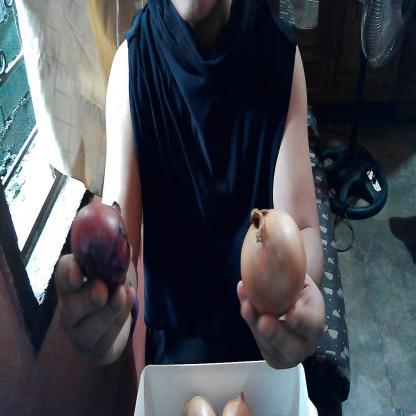onion: (236, 206, 312, 322), (67, 200, 139, 286)
